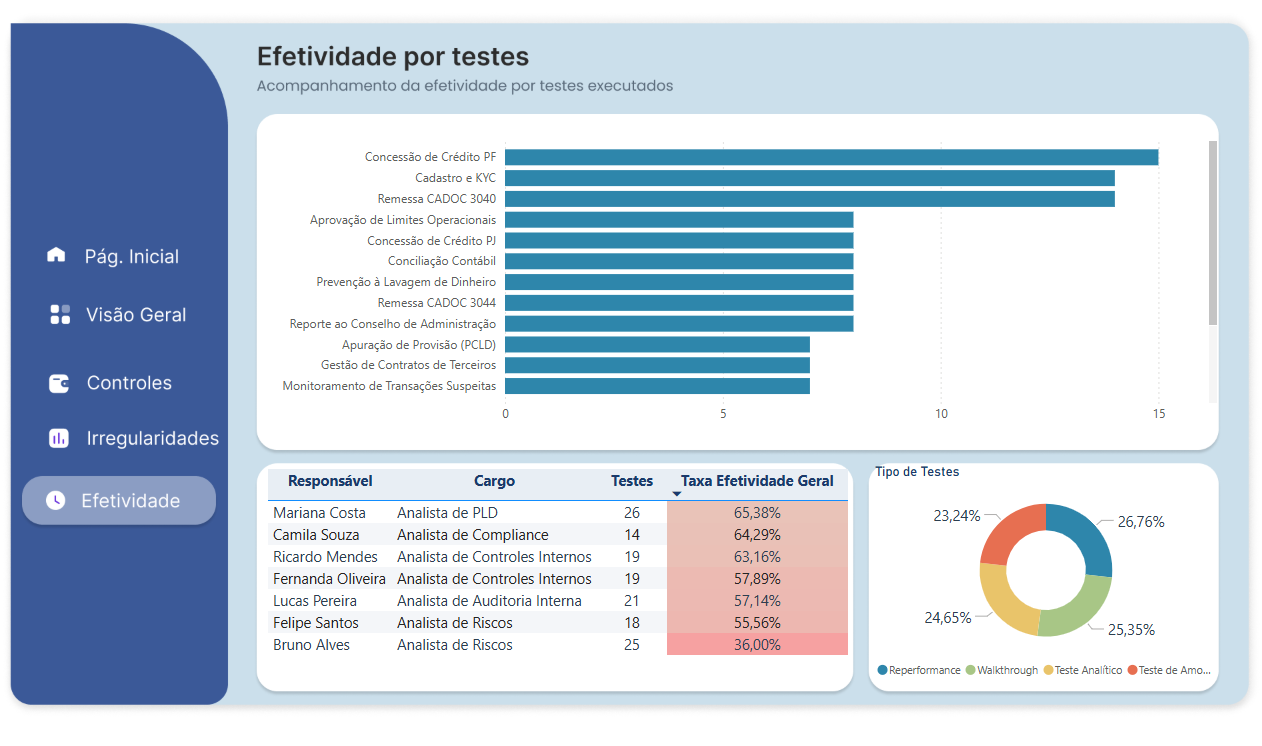

This screenshot's page, from the dashboard's own definition file:
{"tool":"powerbi","page":{"name":"Efetividade","canvas":[1280,720],"ordinal":4},"visuals":[{"type":"clusteredBarChart","title":"Total de Testes por Processos","fields":{"Category":["dim_processo.nome_processo"],"Y":["_medidas.total_testes"]},"box":[272,128,960,304],"z":0},{"type":"tableEx","fields":{"Values":["dim_auditor.nome_auditor","dim_auditor.cargo","_medidas.total_testes","_medidas.Taxa Efetividade Geral"]},"box":[272,464,592,224],"z":1000},{"type":"donutChart","title":"Tipo de Testes","fields":{"Category":["fato_teste_controle.tipo_teste"],"Y":["_medidas.total_testes"]},"box":[880,464,352,224],"z":2000},{"type":"actionButton","box":[48,224,160,48],"z":3000},{"type":"actionButton","box":[48,288,160,48],"z":4000},{"type":"actionButton","box":[48,368,176,32],"z":5000},{"type":"actionButton","box":[48,416,176,48],"z":6000}]}

Visuals, with their boxes on the page's 1280x720 design canvas (x1, y1, x2, y2). These are canvas units, not pixel positions in the 1262x746 screenshot, which may show the page scaled, cropped or inside an application window:
"Total de Testes por Processos" clusteredBarChart: box=[272, 128, 1232, 432]
tableEx - dim_auditor.nome_auditor x dim_auditor.cargo: box=[272, 464, 864, 688]
"Tipo de Testes" donutChart: box=[880, 464, 1232, 688]
actionButton: box=[48, 224, 208, 272]
actionButton: box=[48, 288, 208, 336]
actionButton: box=[48, 368, 224, 400]
actionButton: box=[48, 416, 224, 464]
